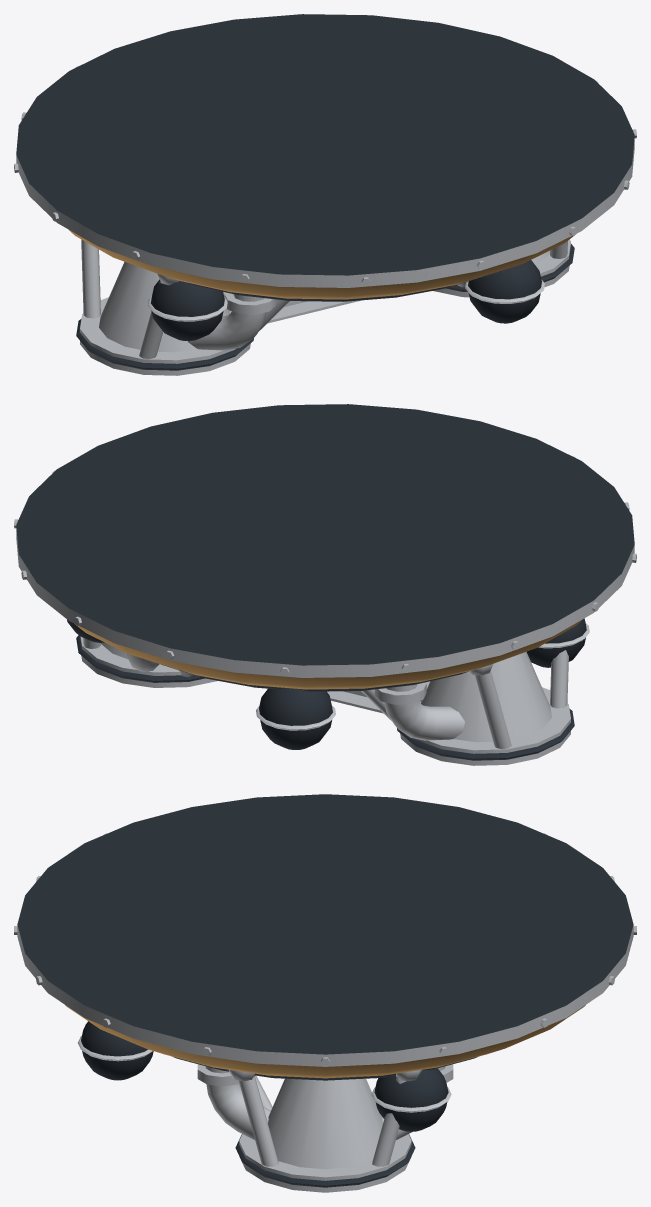
File: mount_s2_2_d15.glb
3 views of the same model, one above another, from view 1: azimuth 30°, elevation 25°; view 2: azimuth 150°, elevation 25°; view 3: azimuth 270°, elevation 25° (orthographic).
Visible parts, largest first — view 1: mount_s2_2_d15_mesh; view 2: mount_s2_2_d15_mesh; view 3: mount_s2_2_d15_mesh.
Boxes of the visible parts, x1,y1,x2,y2 form: mount_s2_2_d15_mesh: (14,14,636,375); mount_s2_2_d15_mesh: (14,404,636,765); mount_s2_2_d15_mesh: (14,794,636,1192).
Bounding box in the file's own units: 1.28 × 0.35 × 1.28.
